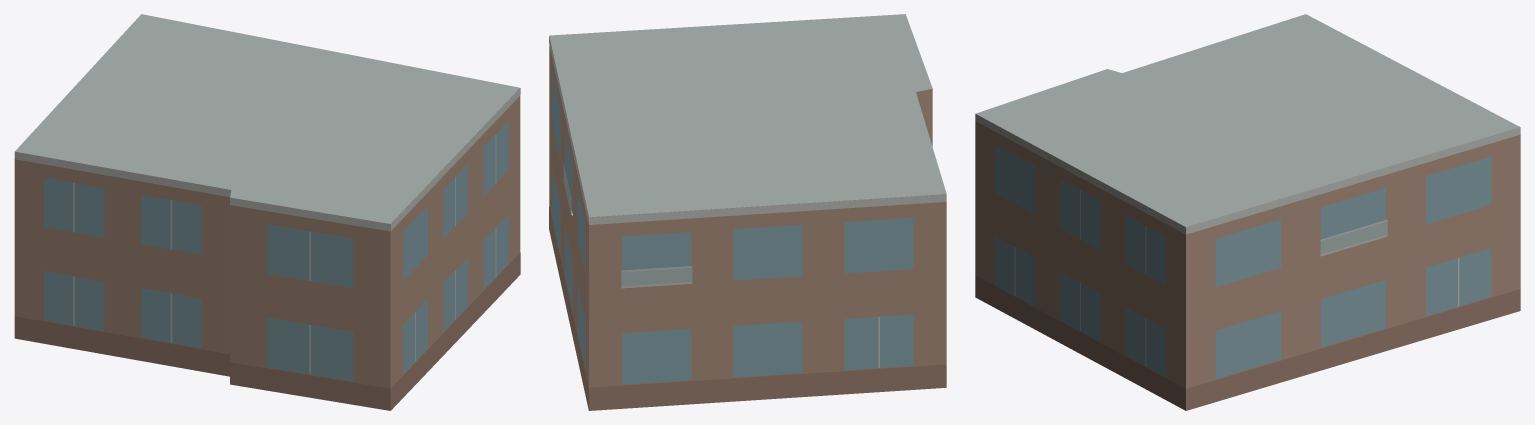
Rendered from survey-upis-32660069.glb.
3 renders of one model, left to right at view 1: azimuth 30°, elevation 25°; view 2: azimuth 150°, elevation 25°; view 3: azimuth 270°, elevation 25°, orthographic. The views are drawn at different scales.
Parts seen in each view (by area): view 1: survey-upis-32660069.tmp; view 2: survey-upis-32660069.tmp; view 3: survey-upis-32660069.tmp.
Part boxes in pixels (box(x1,y1,x2,y2)): survey-upis-32660069.tmp: box(14, 14, 520, 410); survey-upis-32660069.tmp: box(549, 14, 946, 410); survey-upis-32660069.tmp: box(975, 14, 1520, 410).
Bounding box in the file's own units: 15.2 × 6.1 × 16.43.
